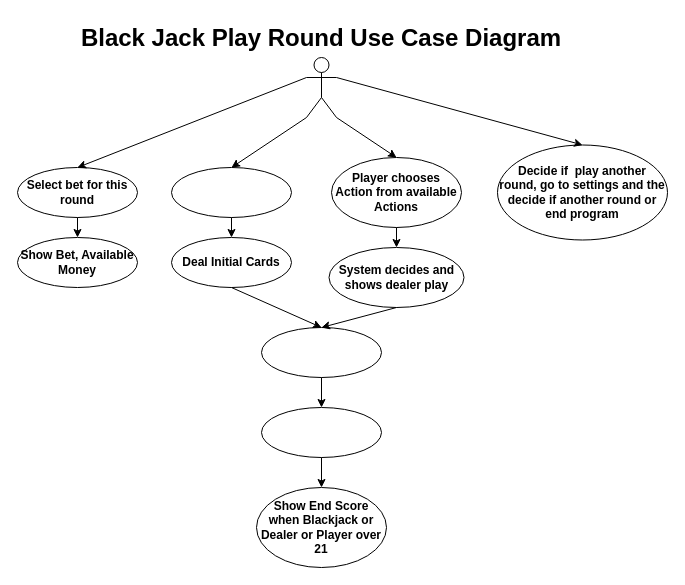
This 685x585 diagram has some shape labels left out. Here are the shapes that lost their labels. From the top down, the box of each, then its label:
(306, 56, 336, 118): Player
(170, 166, 292, 218): Start Round
(260, 326, 382, 378): Show Current Card Count (1-21)
(260, 406, 382, 458): Check for Blackjack
